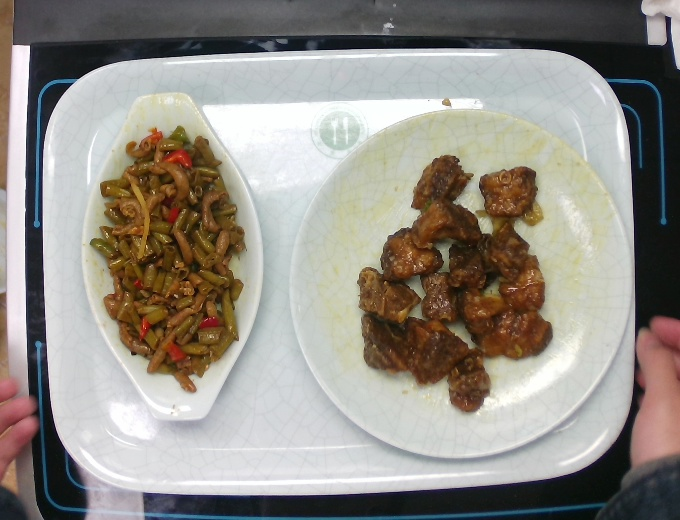JYsf-Da_Yuan_Pan: (281, 90, 638, 470)
JYsf-Yu_Pan: (76, 85, 263, 429)
